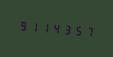five: (72, 21, 82, 39)
four: (50, 19, 60, 37)
nine: (17, 16, 27, 34)
one: (28, 17, 38, 35), (39, 18, 49, 36)
seven: (83, 22, 93, 40)
three: (61, 20, 71, 38)
